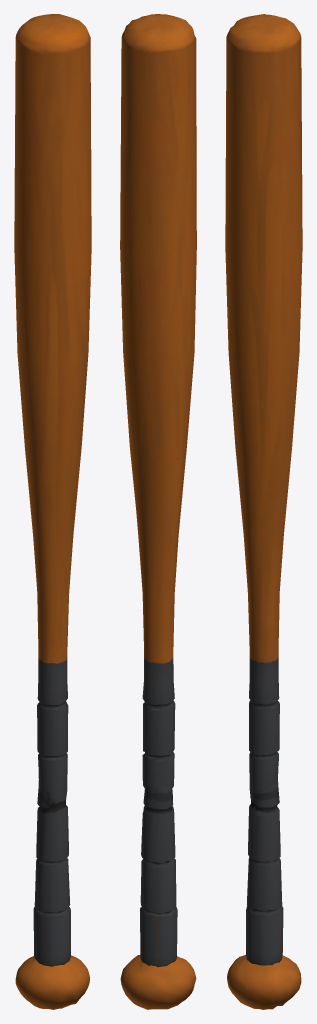
The model's file is baseball-bat.glb.
The picture shows the model from 3 angles, left to right: view 1: azimuth 90°, elevation 25°; view 2: azimuth 210°, elevation 25°; view 3: azimuth 270°, elevation 25°; orthographic projection.
Parts seen in each view (by area): view 1: baseball-bat; view 2: baseball-bat; view 3: baseball-bat.
Boxes of the visible parts, x1=… form: baseball-bat: x1=14, y1=14, x2=91, y2=1009; baseball-bat: x1=120, y1=14, x2=196, y2=1009; baseball-bat: x1=225, y1=14, x2=302, y2=1009.
Bounding box in the file's own units: 0.0637 × 0.9 × 0.0643.
1 material, 1 textured.
